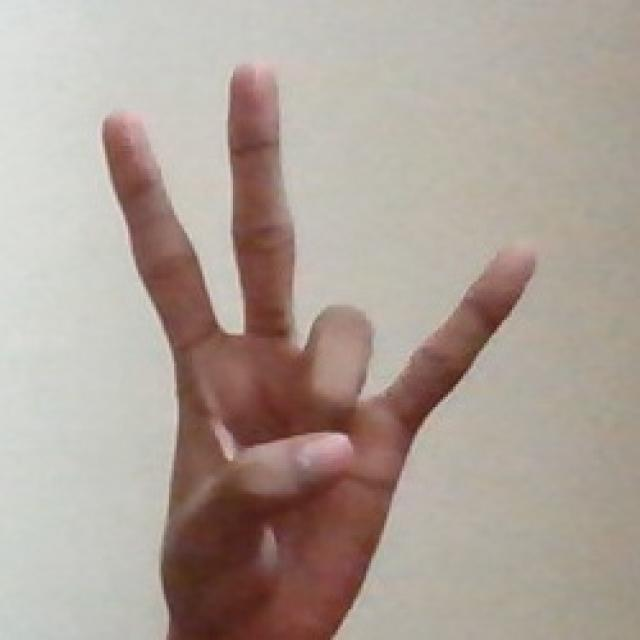Numeric-7: (95, 54, 543, 626)
